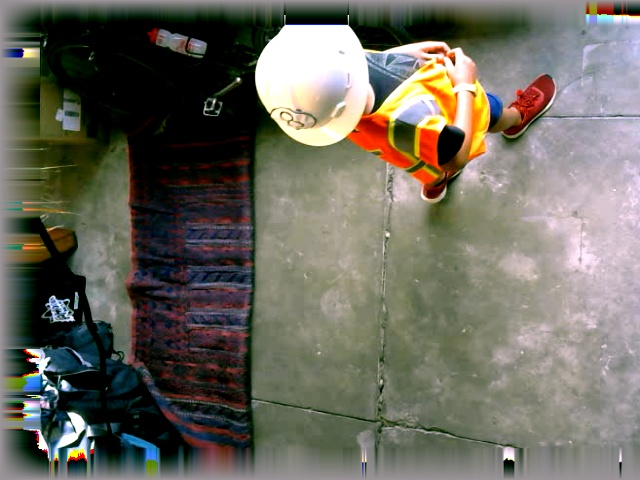eight: (267, 105, 314, 129)
